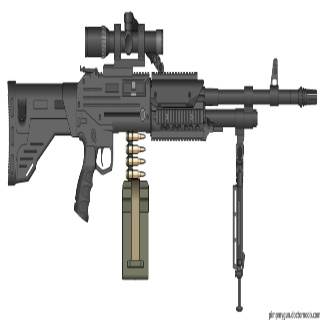rifle: (6, 9, 320, 224)
